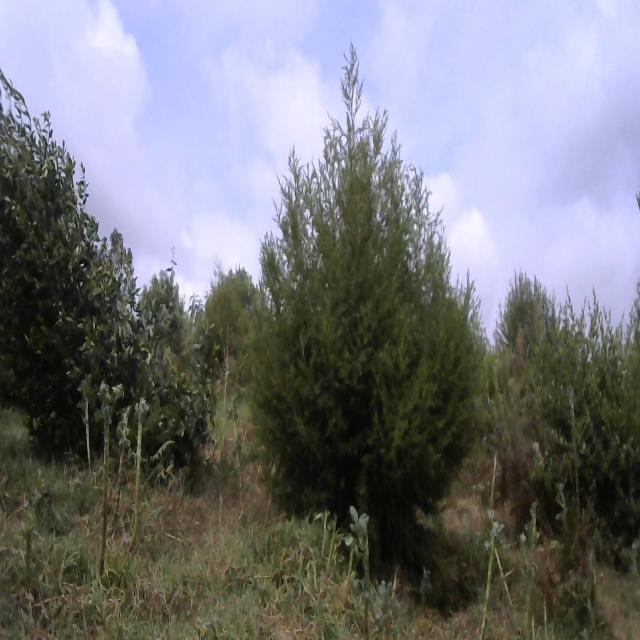Juniperus procesera: (250, 21, 483, 587)
Olea europea -africana-: (0, 69, 224, 464), (531, 294, 640, 534)
